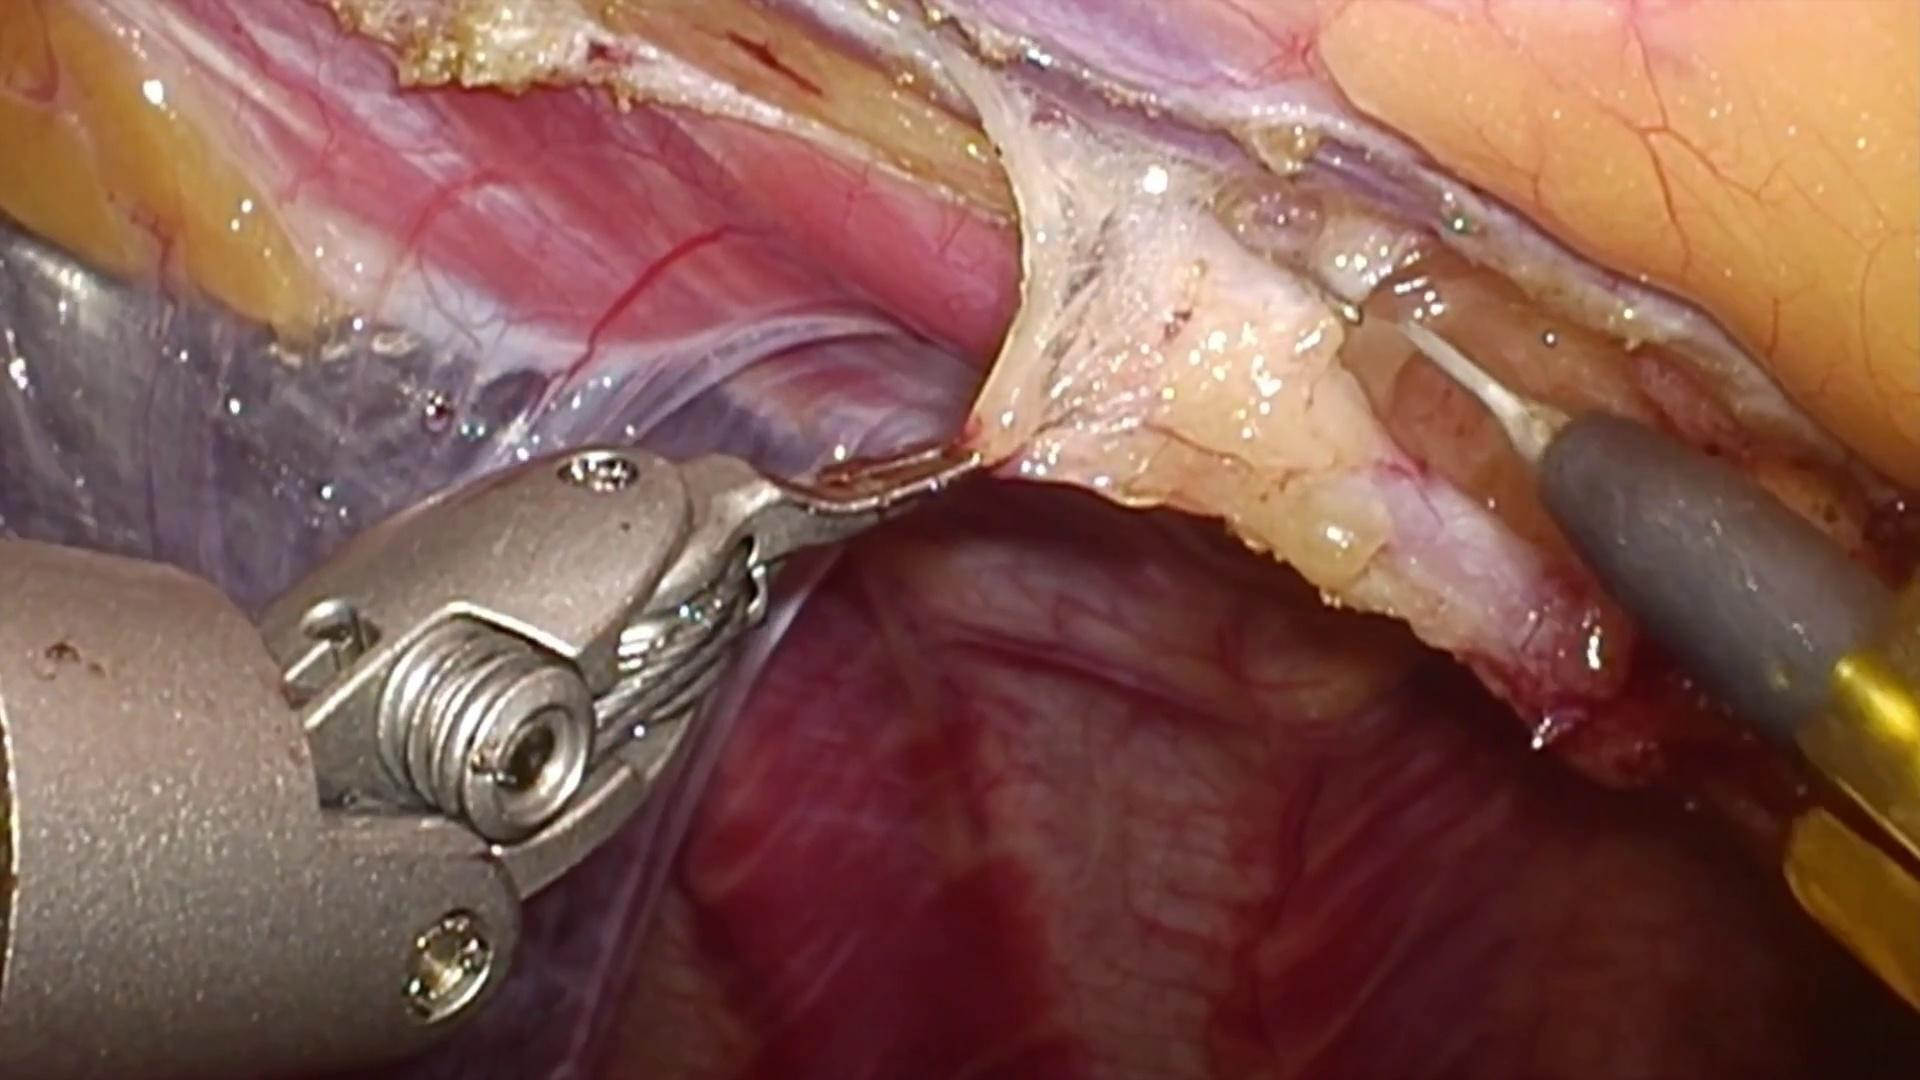Cautery_Spatula: (1394, 306, 1890, 742)
Debakey: (678, 433, 989, 559)
